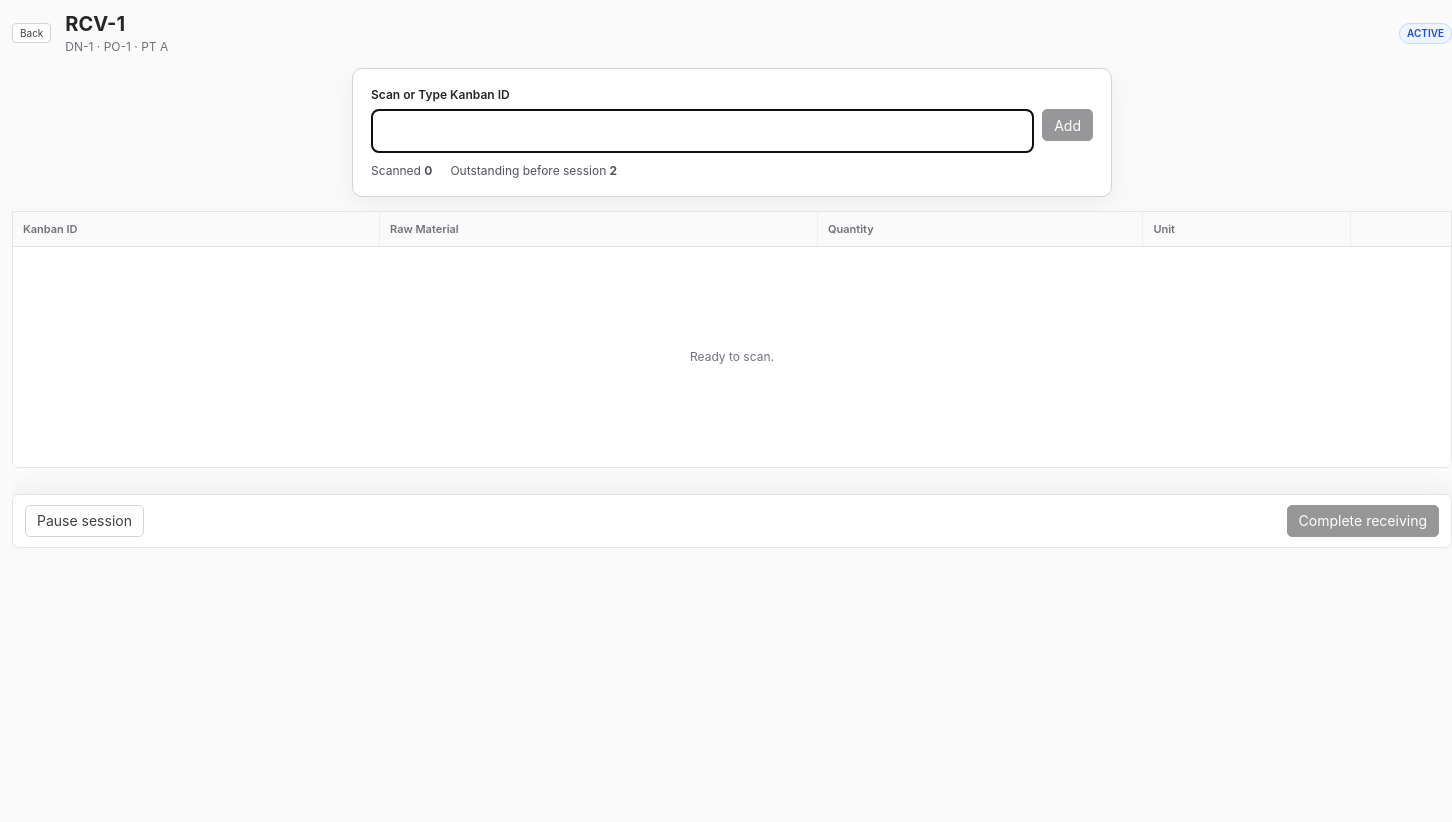
Test case: shows explicit scanner feedback for KANBAN_ALREADY_RECEIVED and preserves the scanned value
The image size is (1452, 822).
Type "KB-1" into the field named "Scan or Type Kanban ID" at (703, 131), box [371,109,1034,153]
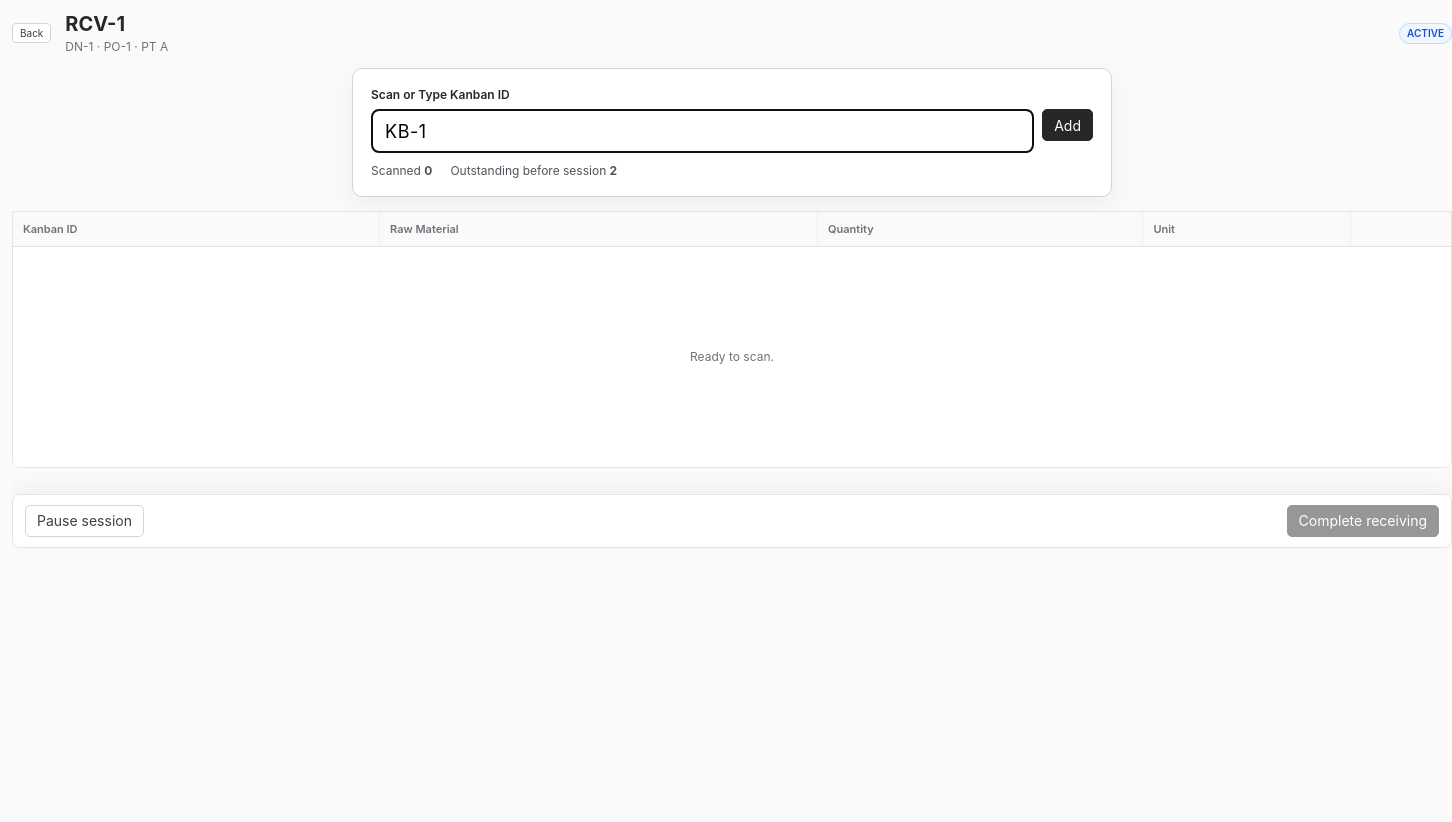
Submit the form named "Scan or Type Kanban ID", box [371,109,1093,153]
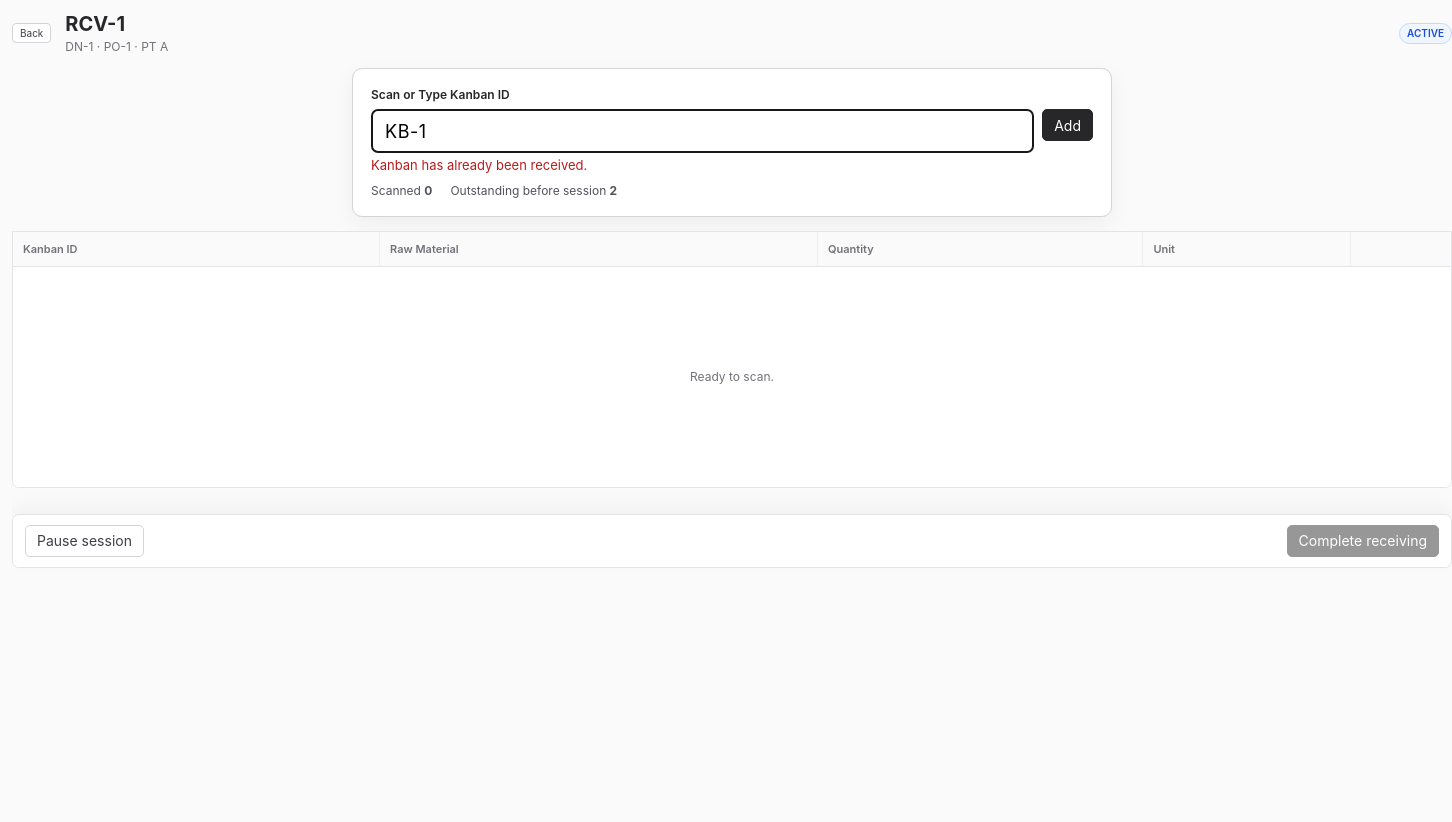
Now the message reads "Kanban has already been received.", box [371,157,587,173]
